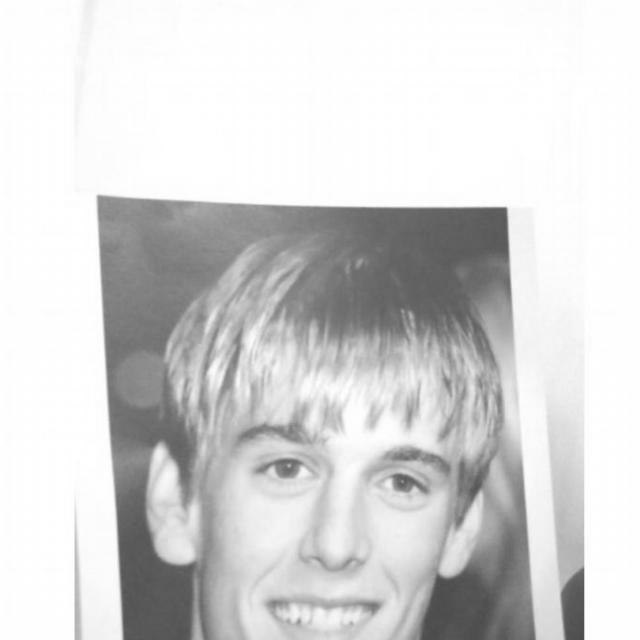fake: (77, 193, 572, 640)
